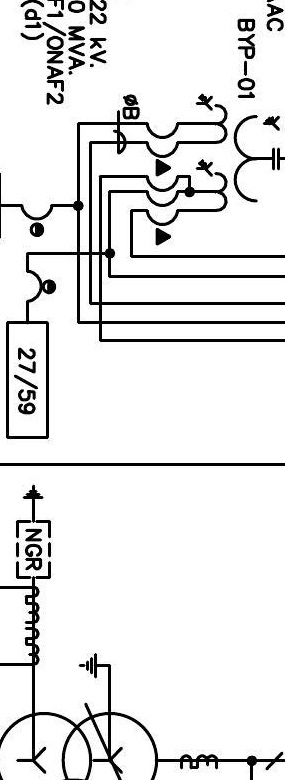115_cvt_3p: (195, 93, 280, 213)
NGR_future: (15, 484, 52, 579)
